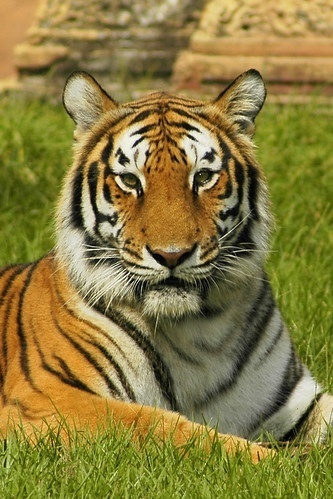tigre: (1, 62, 332, 470)
